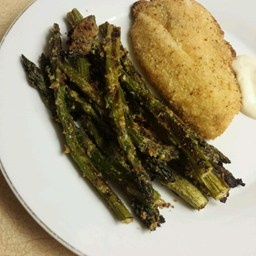background: (8, 0, 102, 92)
